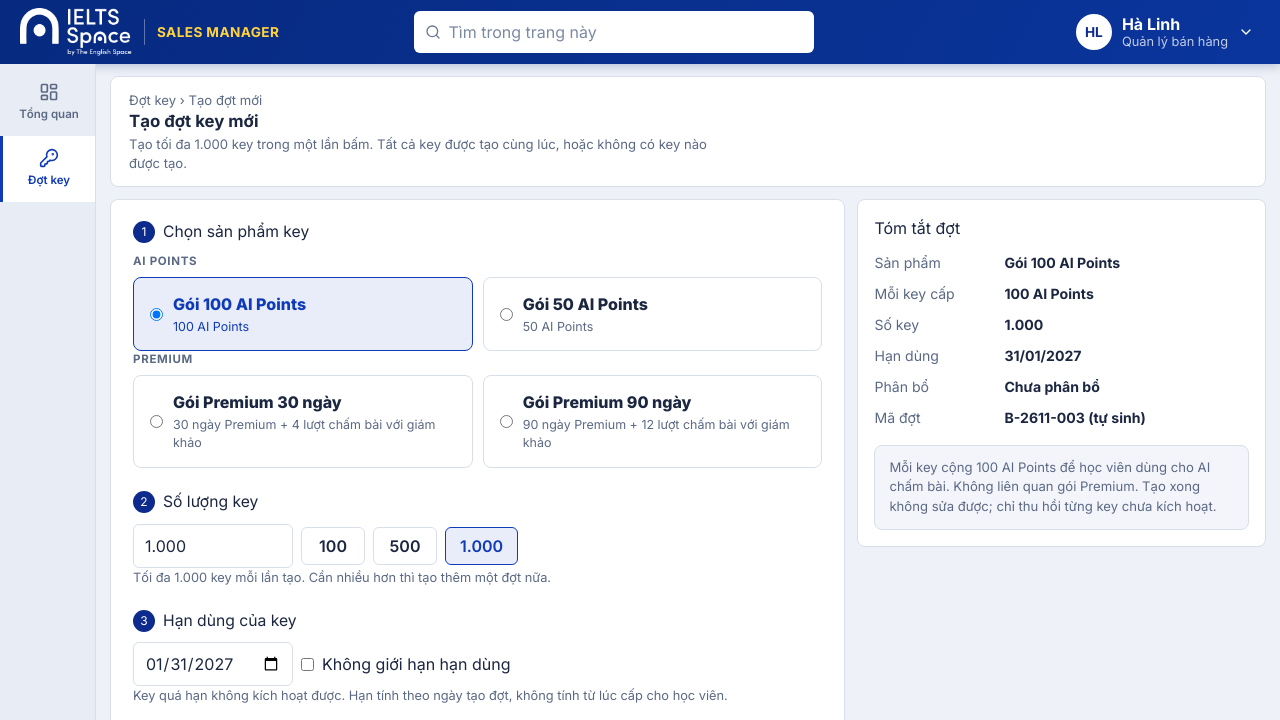
it: sale manager screens › offers Premium products next to AI Points and says what one key grants
The image size is (1280, 720).
Expected: the element named "Sản phẩm AI Points" is shown, [133,277,822,351]
Expected: the element named "Sản phẩm Premium" is shown, [133,375,822,468]
Click the radio button labelled "Gói Premium 30 ngày": (156, 421) [150,415,163,428]
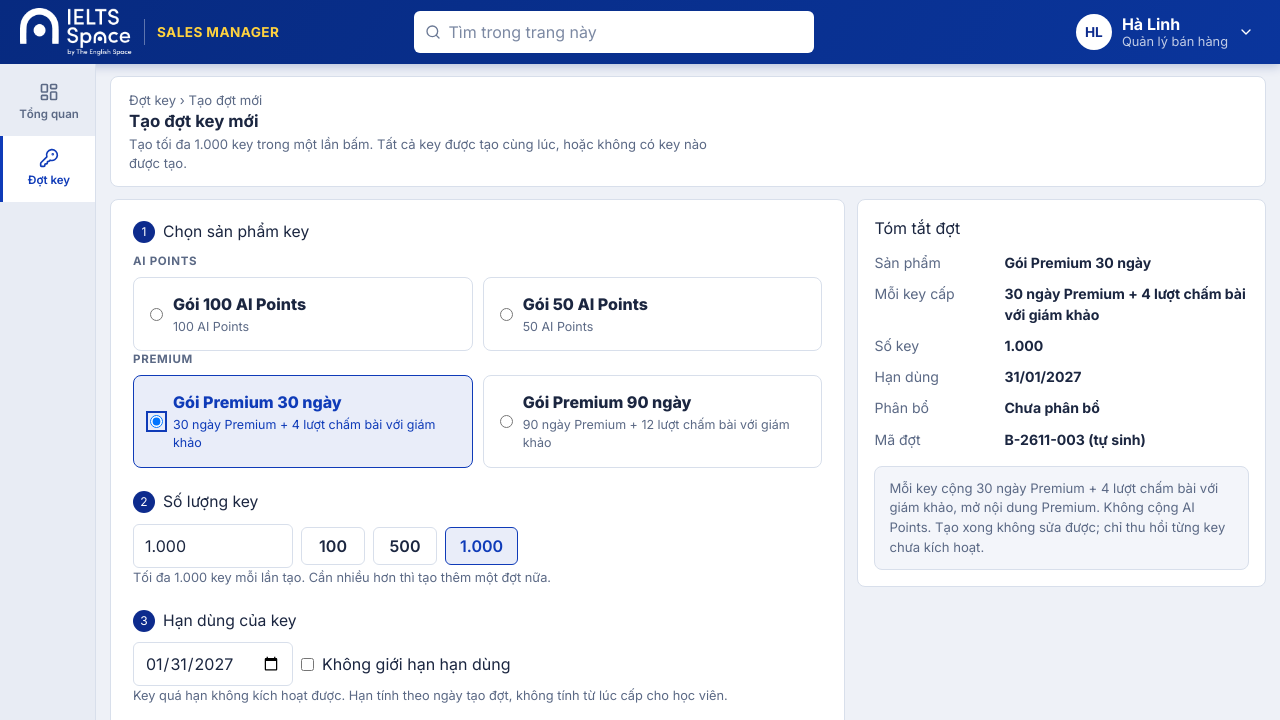
Expected: the text "30 ngày Premium + 4 lượt chấm bài với giám khảo" next to "Mỗi key cấp" is shown, [1004,285,1246,323]
Expected: the text "Không cộng AI Points" is shown, [889,480,1218,535]
Click the radio button labelled "Gói 50 AI Points 50 AI Points": (506, 314) [500,308,513,320]
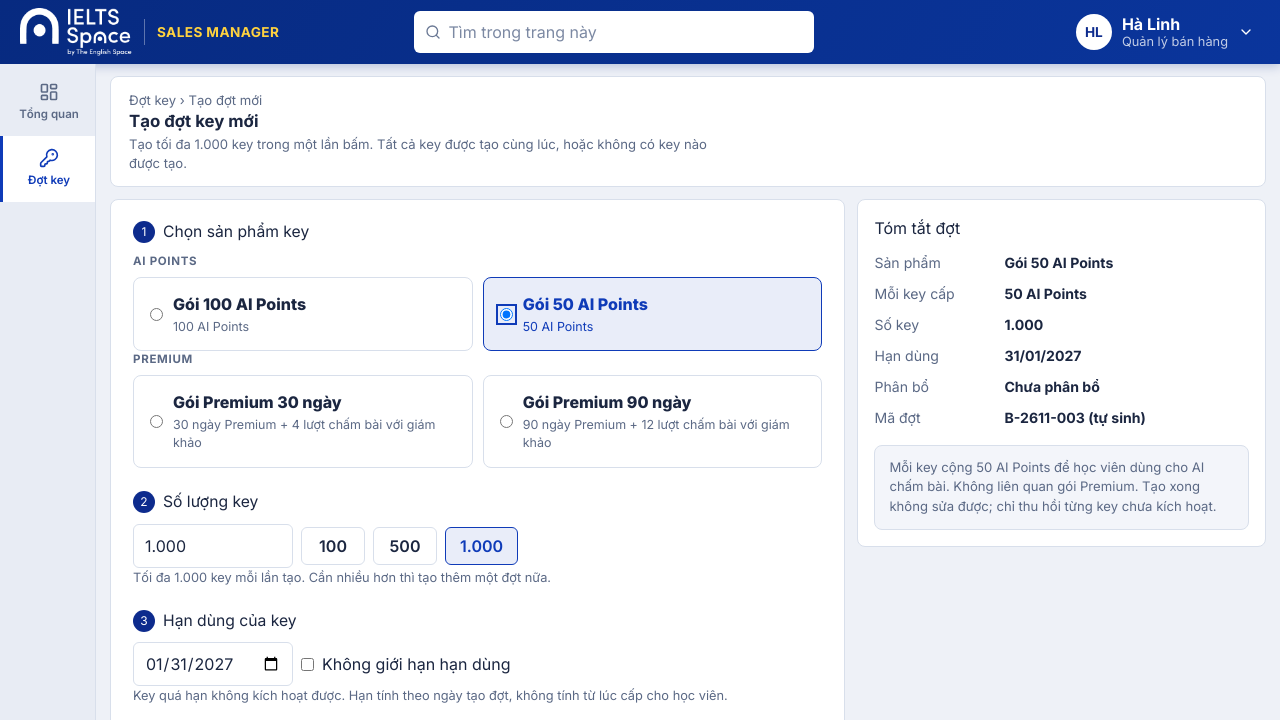
Expected: the text "50 AI Points" next to "Mỗi key cấp" is shown, [1004,285,1087,302]
Expected: the text "Không liên quan gói Premium" is shown, [889,458,1204,494]
